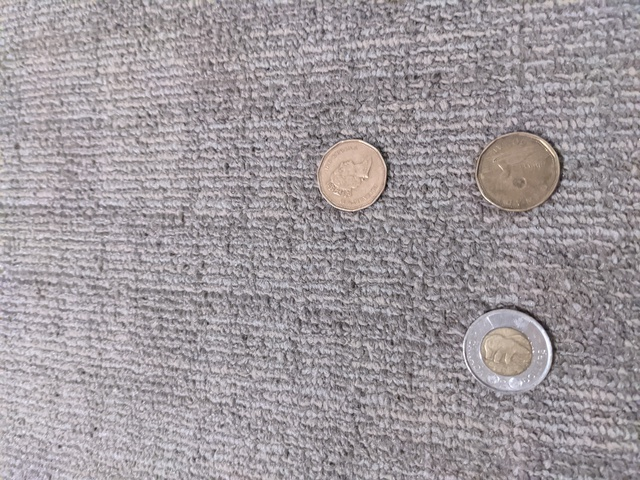loonie: (468, 127, 577, 219), (311, 134, 395, 221)
twonie: (458, 297, 556, 396)
